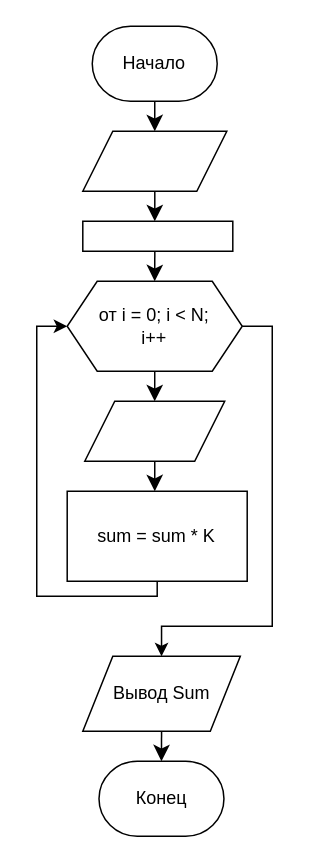
Some shapes in this 311 by 863 pixel diagram are drawn without their labels. Each missing label, with the centre of its shape:
sum = 1: the point at 157,235
Ввод K: the point at 154,430
Ввод N: the point at 154,160
